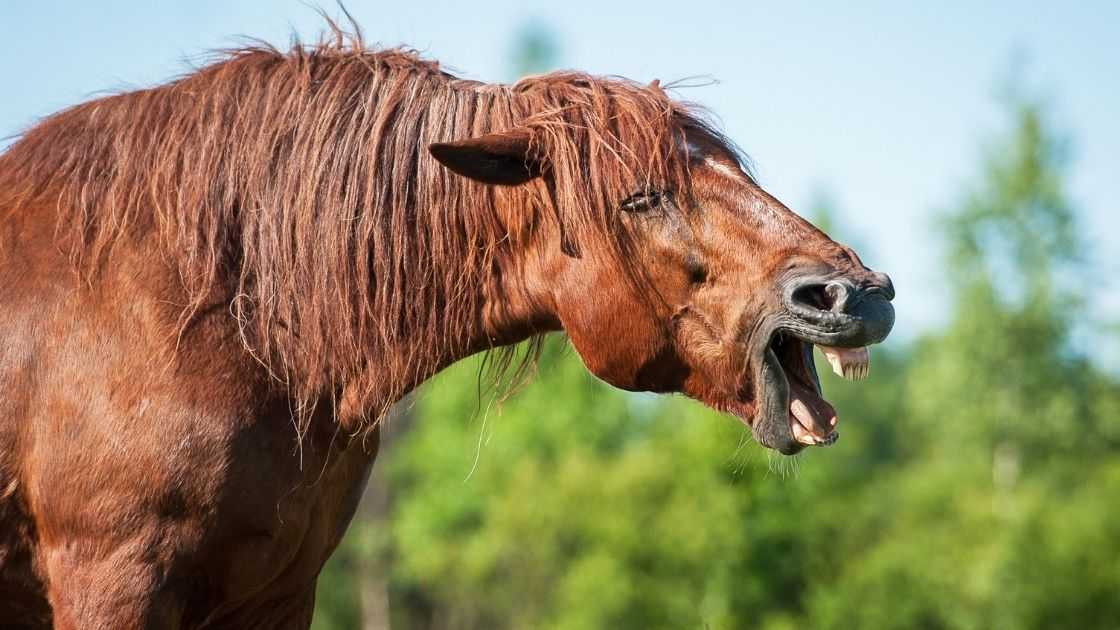Horse: (32, 17, 940, 630)
